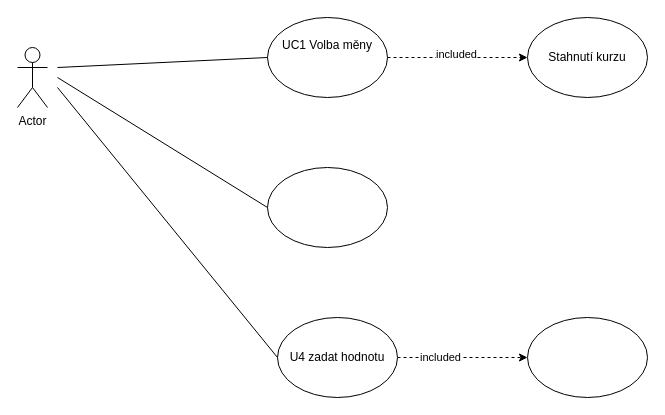
Some shapes in this 665 by 415 pixel diagram are drawn without their labels. Each missing label, with the box of its shape:
U5 Přepočet do jiné měny: (526, 316, 648, 398)
UC2 stahnout kurz ručně: (266, 166, 388, 248)
